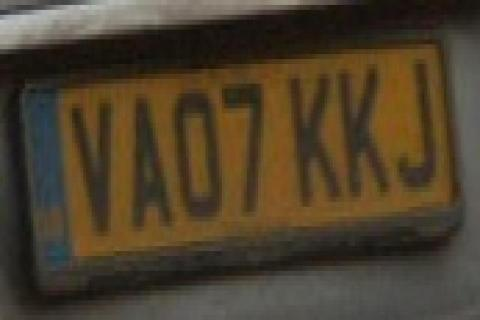LicensePlate: (17, 40, 465, 280)
